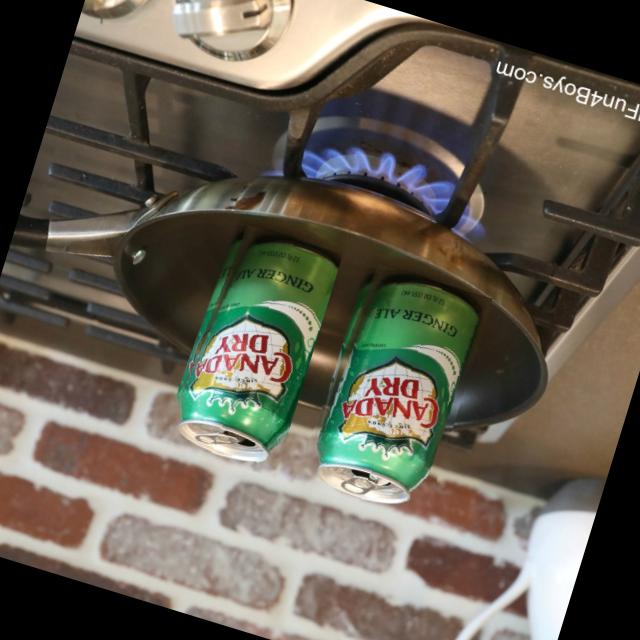Cans: (290, 257, 491, 527), (160, 217, 342, 476)
